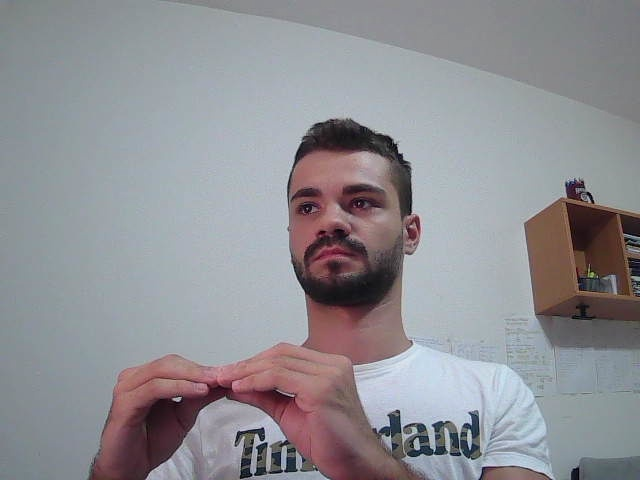b: (73, 338, 424, 480)
